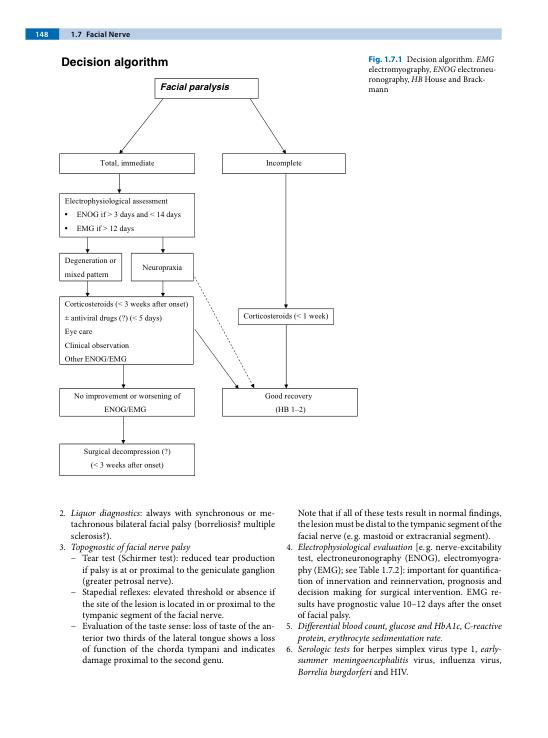caption: (367, 54, 497, 94)
header: (86, 30, 132, 38)
image: (50, 51, 367, 485)
list: (284, 507, 504, 679), (58, 508, 276, 668)
